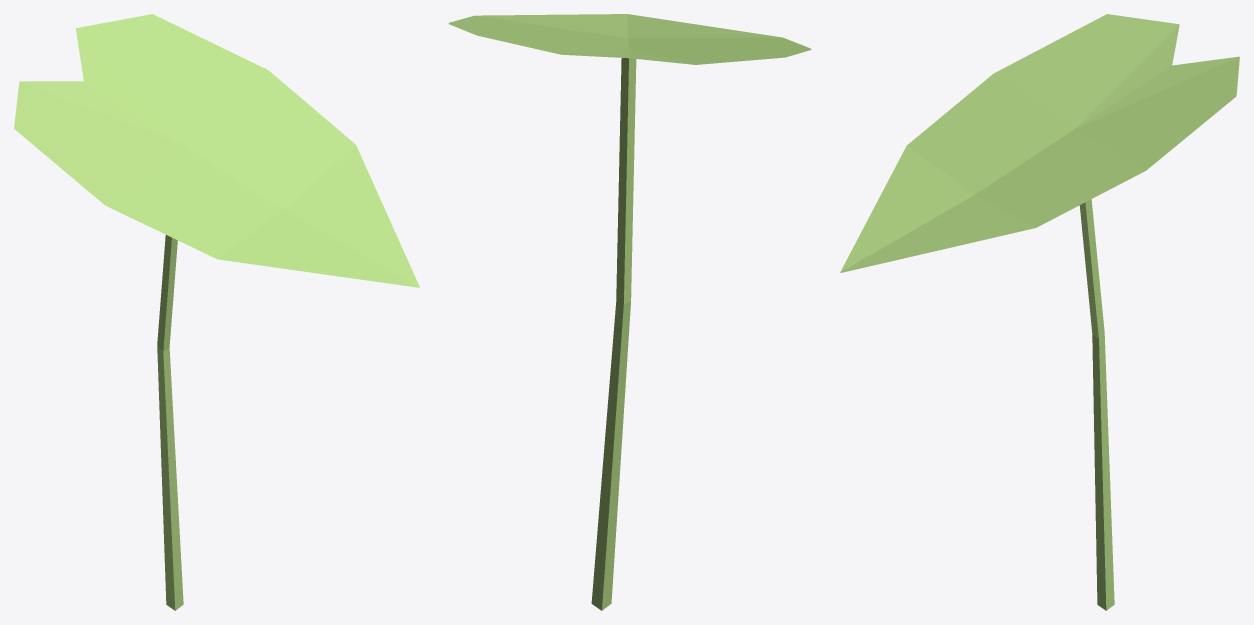
The model's file is testobject.fbx.
3 views of the same model, side by side, from view 1: azimuth 30°, elevation 25°; view 2: azimuth 150°, elevation 25°; view 3: azimuth 270°, elevation 25° (orthographic). The views are drawn at different scales.
Parts seen in each view (by area): view 1: Plant_d_TwoS_03; view 2: Plant_d_TwoS_03; view 3: Plant_d_TwoS_03.
Boxes of the visible parts, x1=… form: Plant_d_TwoS_03: x1=14, y1=14, x2=419, y2=610; Plant_d_TwoS_03: x1=448, y1=14, x2=811, y2=610; Plant_d_TwoS_03: x1=840, y1=14, x2=1239, y2=610.
Size of the model in its own units: 53.8 by 47.33 by 79.39.
Materials: 1 (1 with a texture image).
